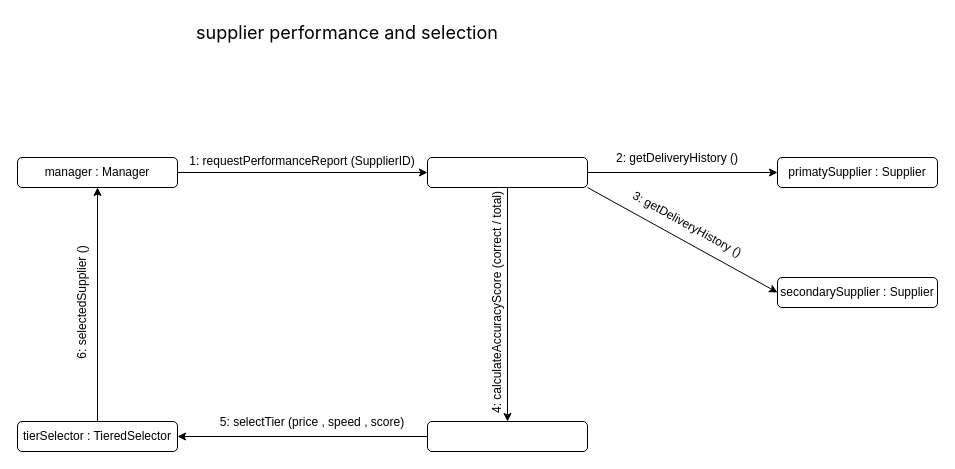
The diagram is 955 pixels wide and 469 high, and some of its shapes have lost their labels. Each missing label, with the centre of its shape:
"accuracyScore : Float" goes at (507,436).
"analytics : SupplierAnalytics" goes at (507,172).
